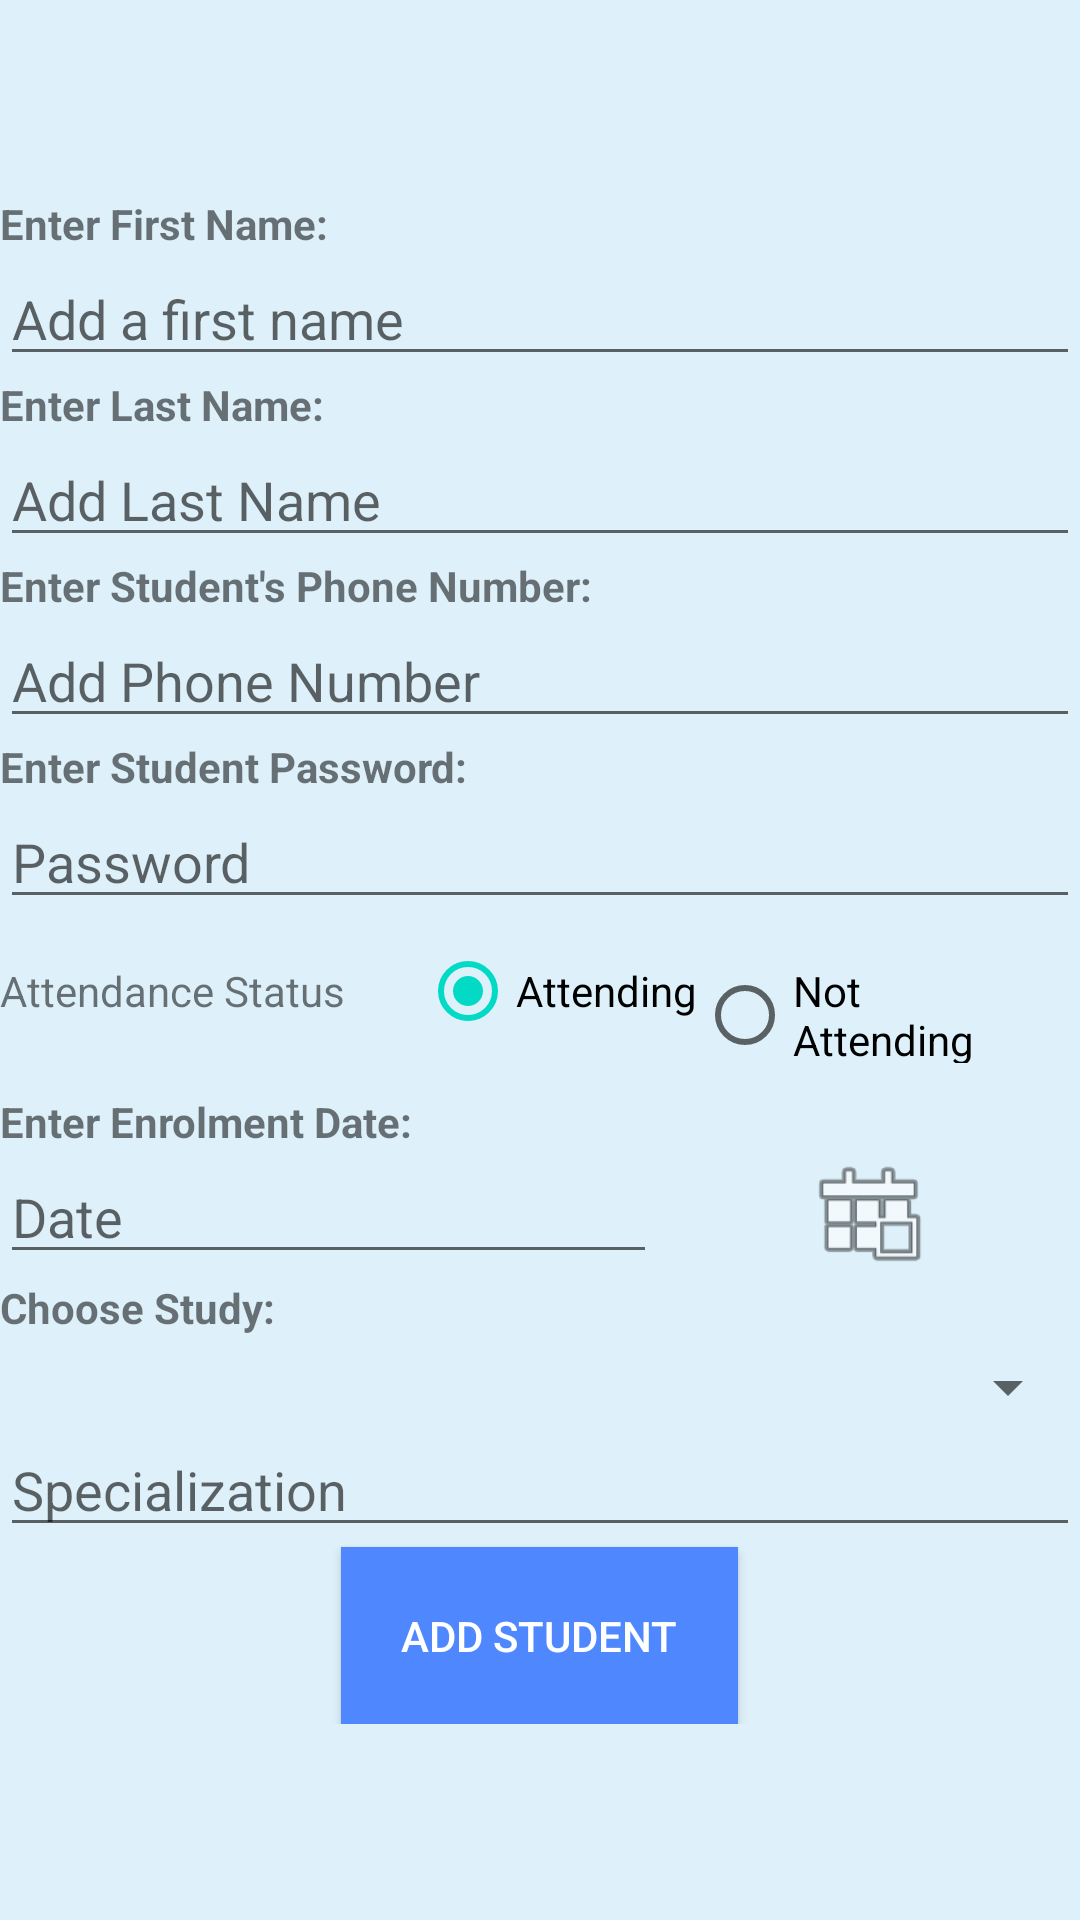

Screen size 1080×1920. Icon name, then its box in pixels as (x1, y1, x2, y2):
today: (818, 1166, 921, 1262)
